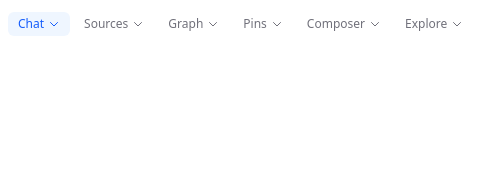
Scenario: ConversationTabs › opens dropdown when tab is clicked
This screenshot has width=478, height=172.
Click the button "Chat" at (39, 24), box left=8, top=12, right=70, bottom=36
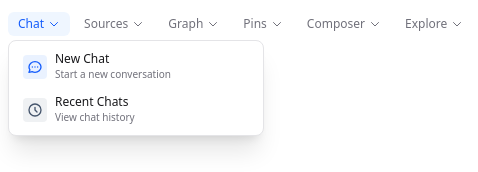
expect the text "New Chat" is shown: met, box left=55, top=50, right=109, bottom=67
expect the text "Start a new conversation" is shown: met, box left=55, top=67, right=171, bottom=81
